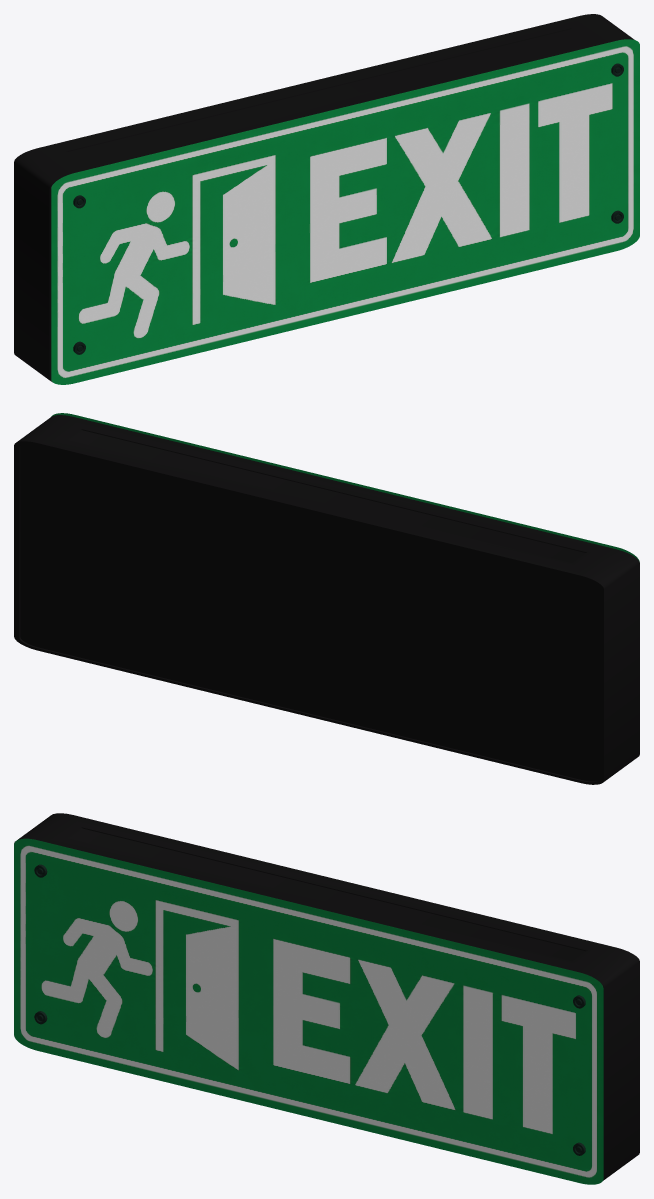
The model's file is Elix Sige.obj.
3 views of the same model, one above another, from view 1: azimuth 30°, elevation 25°; view 2: azimuth 150°, elevation 25°; view 3: azimuth 330°, elevation 25° (orthographic).
Parts seen in each view (by area): view 1: Exit_Sign_Logo, Exit_Sign, screw; view 2: Exit_Sign, Exit_Sign_Logo; view 3: Exit_Sign_Logo, Exit_Sign, screw.
Part boxes in pixels (bbox=[...]): Exit_Sign_Logo: bbox=[51, 39, 639, 384]; Exit_Sign: bbox=[14, 14, 634, 382]; screw: bbox=[73, 63, 623, 354]; Exit_Sign: bbox=[14, 415, 639, 784]; Exit_Sign_Logo: bbox=[51, 413, 639, 561]; Exit_Sign_Logo: bbox=[14, 838, 603, 1184]; Exit_Sign: bbox=[14, 813, 639, 1180]; screw: bbox=[34, 864, 585, 1155].
Bounding box in the file's own units: 4.96 × 1.69 × 0.5563.
3 materials, 1 textured.
